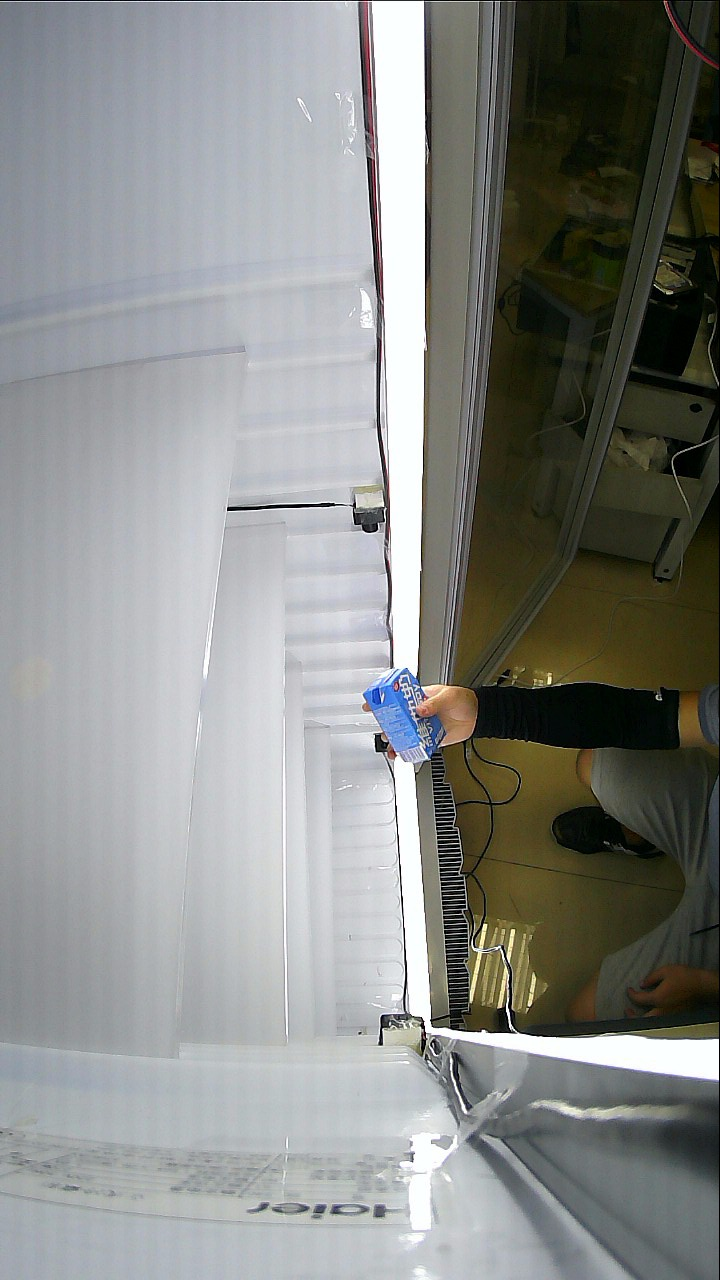VitaSoyOriginal: (367, 672, 532, 766)
